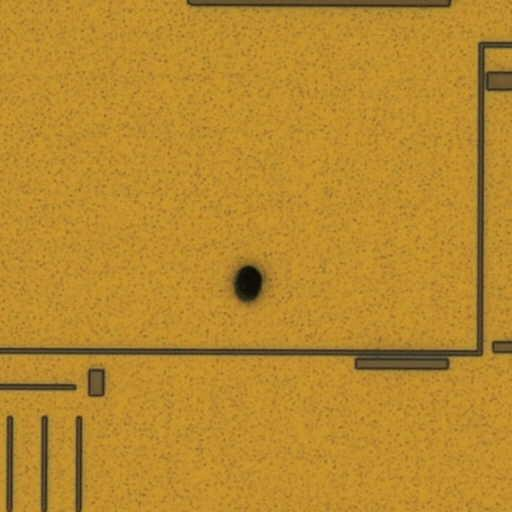PIQ PARTICLE: (225, 258, 277, 310)
